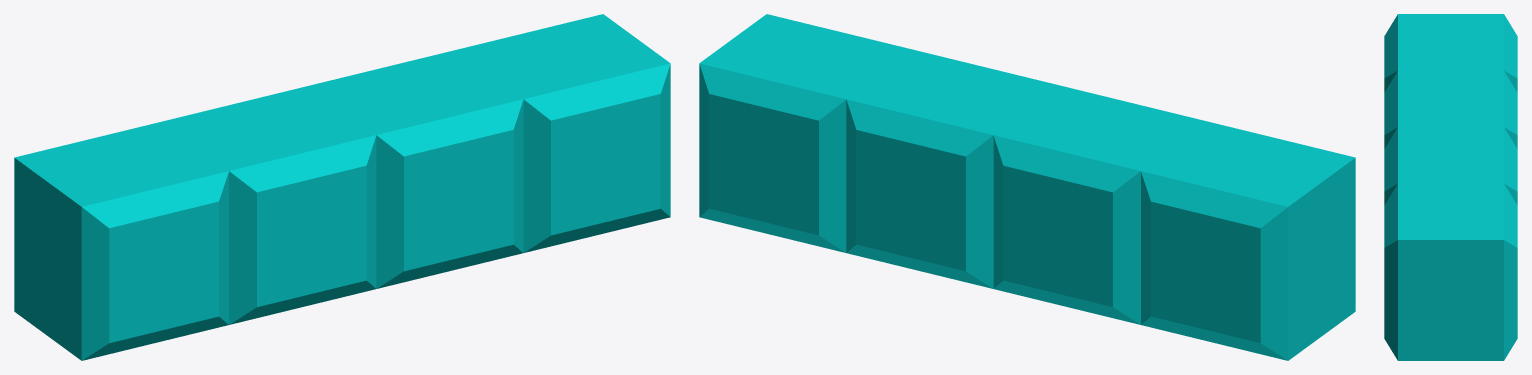
File: IMino.fbx
3 views of the same model, side by side, from view 1: azimuth 30°, elevation 25°; view 2: azimuth 150°, elevation 25°; view 3: azimuth 270°, elevation 25° (orthographic). The views are drawn at different scales.
Parts seen in each view (by area): view 1: Cube.003; view 2: Cube.003; view 3: Cube.003.
Boxes of the visible parts, bbox=[...] form: Cube.003: bbox=[14, 14, 670, 360]; Cube.003: bbox=[699, 14, 1355, 360]; Cube.003: bbox=[1384, 14, 1517, 360].
Size of the model in its own units: 400 by 100 by 100.
